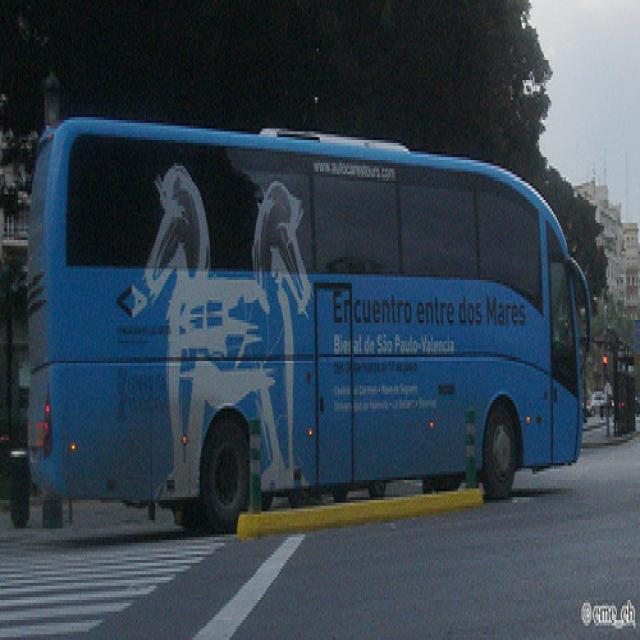light_vehicle: (585, 389, 614, 420)
